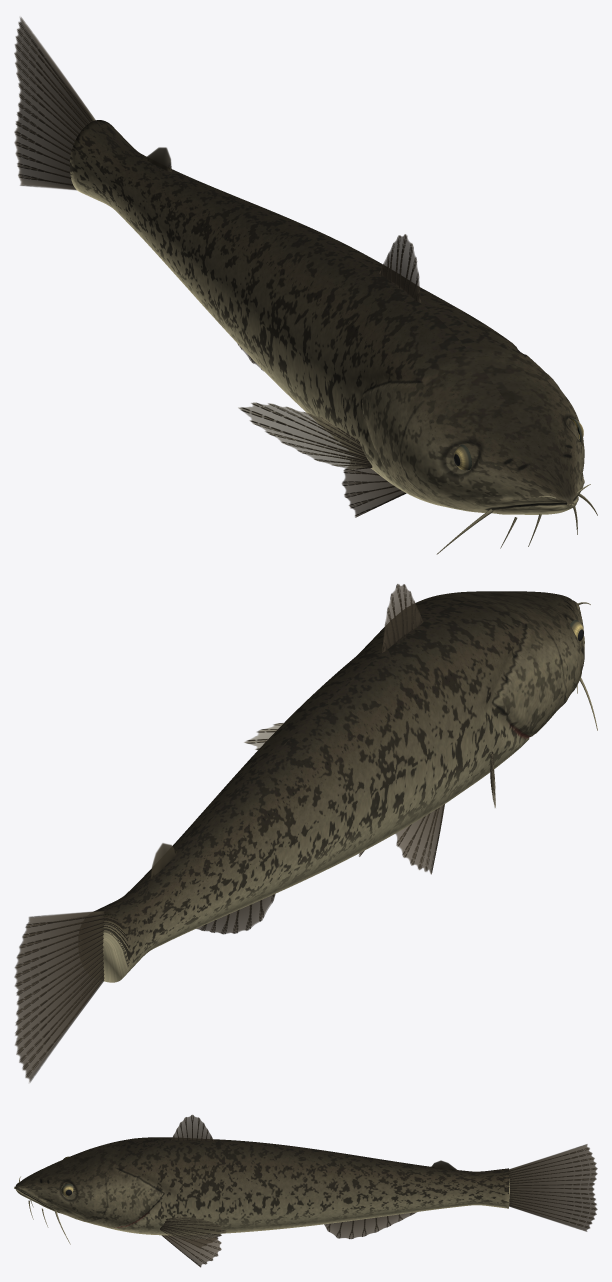
Rendered from sumik_karlowaty.glb.
3 views of the same model, one above another, from view 1: azimuth 30°, elevation 25°; view 2: azimuth 150°, elevation 25°; view 3: azimuth 270°, elevation 25° (orthographic). The views are drawn at different scales.
Visible parts, largest first — view 1: Body, FinCaudal, FinPectoral, FinPelvic, FinDorsal1; view 2: Body, FinCaudal, FinPelvic, FinDorsal1, FinAnal; view 3: Body, FinCaudal, FinAnal, FinPelvic, FinPectoral, FinDorsal1.
Boxes of the visible parts, <box> form: Body: <box>70,120,584,514</box>; FinCaudal: <box>14,17,95,190</box>; FinPectoral: <box>238,402,372,469</box>; FinPelvic: <box>342,461,406,517</box>; FinDorsal1: <box>379,234,421,303</box>; Body: <box>93,591,584,982</box>; FinCaudal: <box>14,911,104,1082</box>; FinPelvic: <box>359,804,444,874</box>; FinDorsal1: <box>381,584,423,652</box>; FinAnal: <box>196,894,275,934</box>; Body: <box>14,1137,509,1235</box>; FinCaudal: <box>509,1144,597,1231</box>; FinAnal: <box>324,1212,416,1239</box>; FinPelvic: <box>161,1234,221,1267</box>; FinPectoral: <box>160,1216,227,1239</box>; FinDorsal1: <box>170,1114,214,1141</box>.
Size of the model in its own units: 0.2618 by 0.273 by 0.9923.
Materials: 10 (9 with a texture image).
